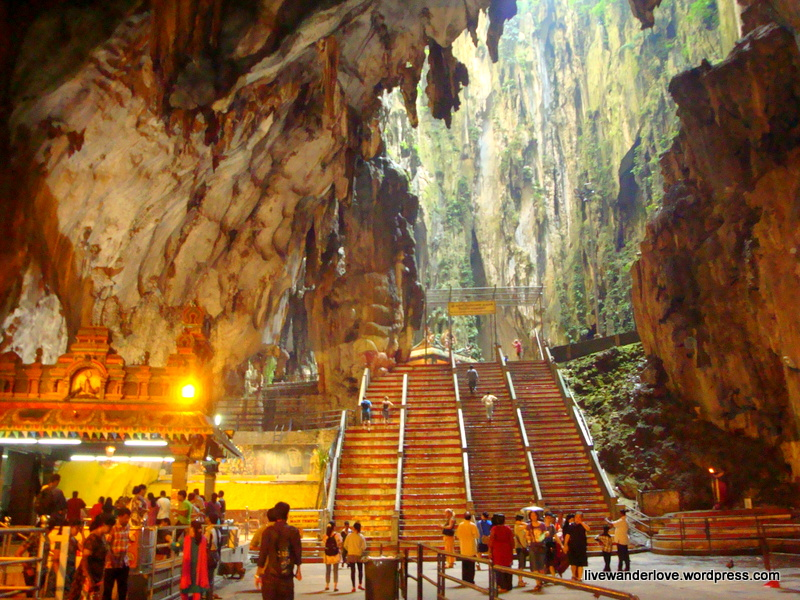Hindu Temple: (5, 297, 211, 506)
